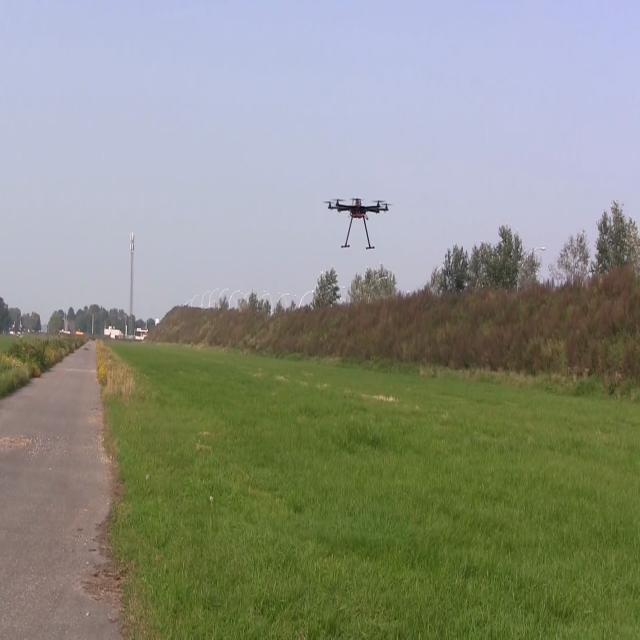drone: (326, 174, 391, 257)
